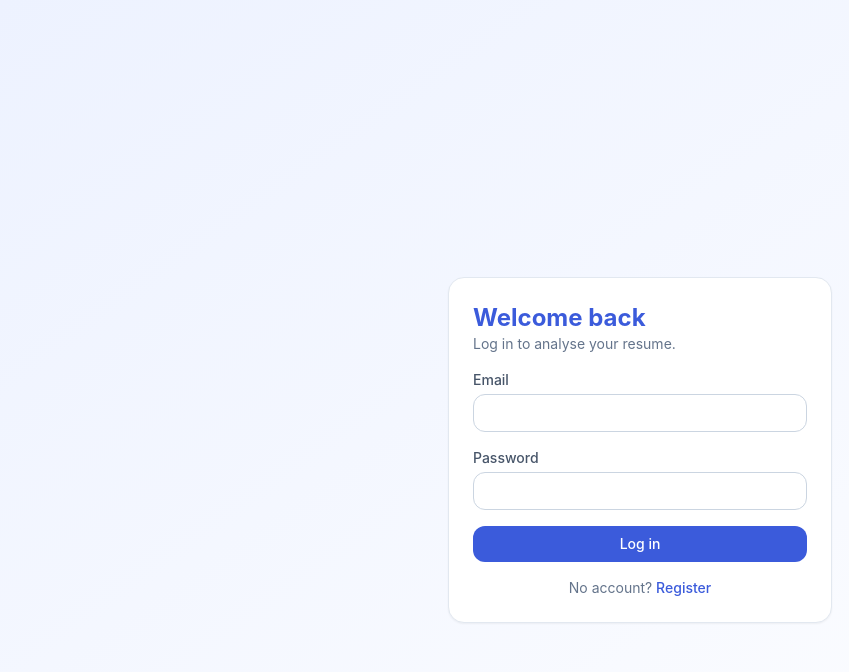
Scenario: login › shows the server error for wrong credentials and stays on the page
Type "s@example.com" into the field labelled "Email". click: (640, 413)
box: [473, 394, 807, 432]
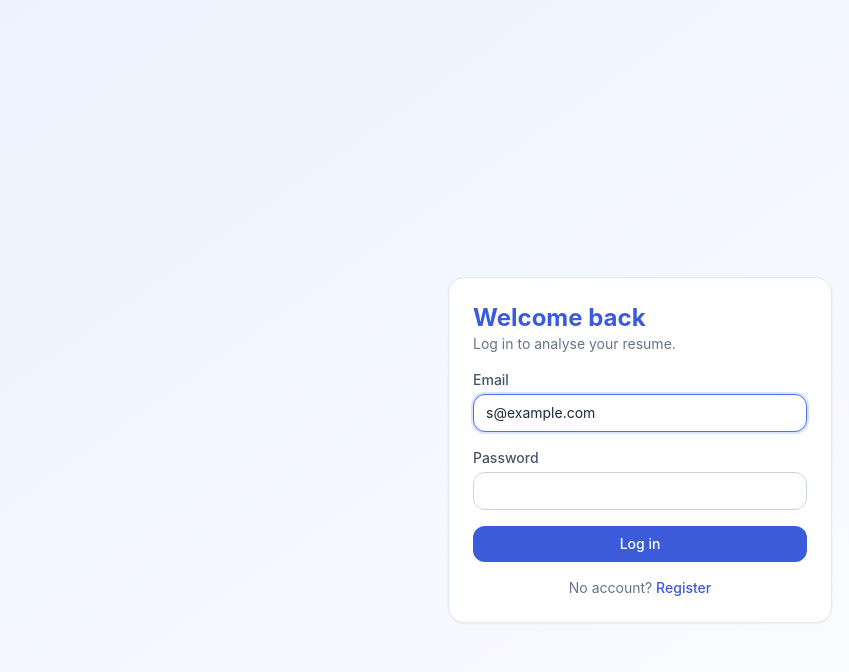
Type "wrong" into the password field labelled "Password". click: (640, 491)
box: [473, 472, 807, 510]
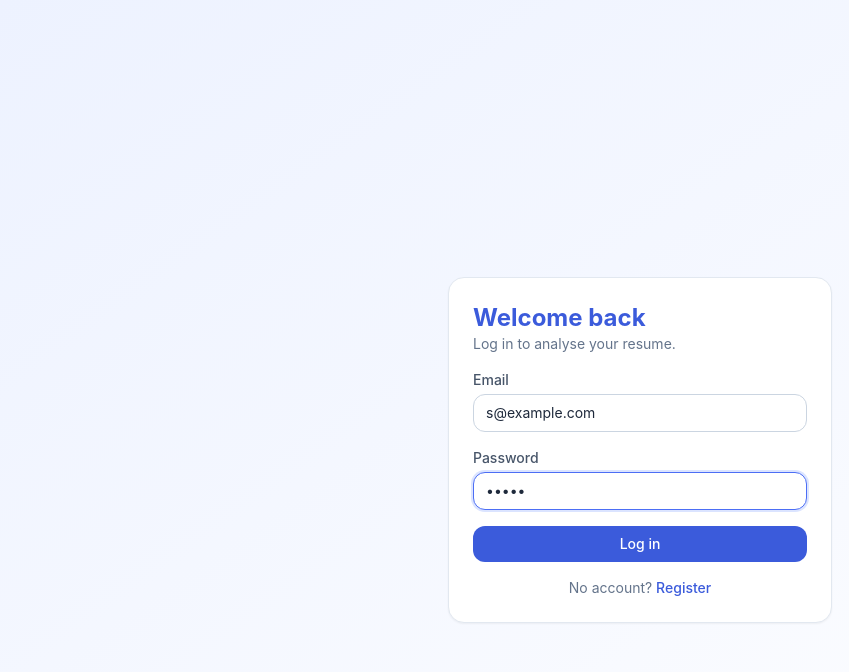
Click the button "Log in". click: (640, 544)
box: [473, 526, 807, 562]
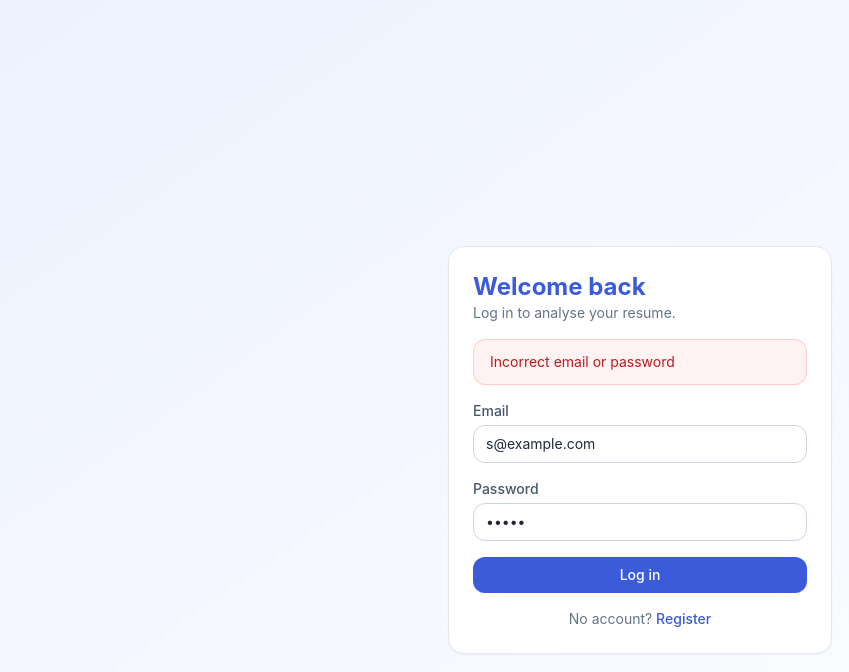
Result: the message reads "Incorrect email or password" at [490, 353, 675, 370]
